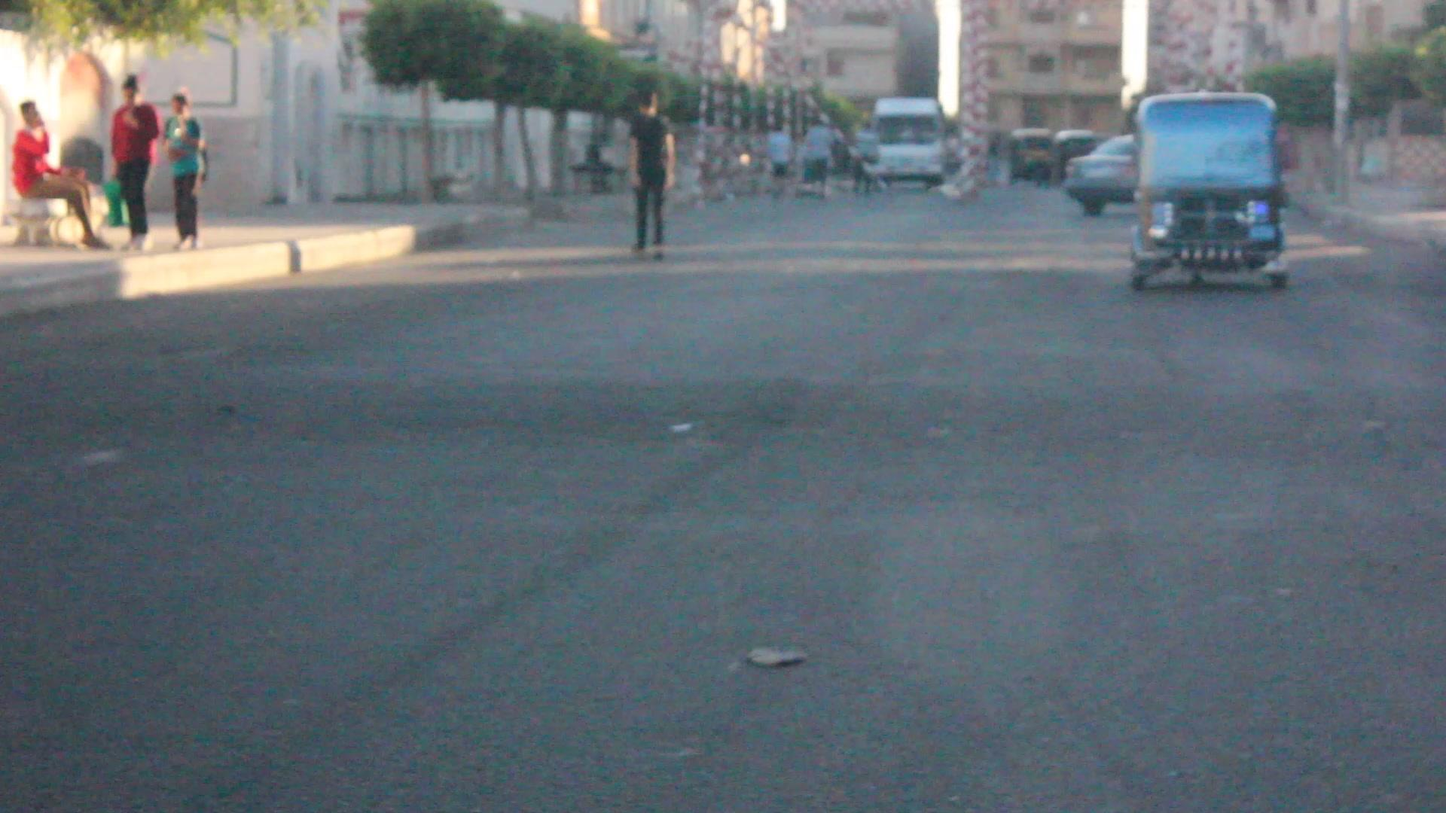Bump: (0, 350, 1446, 474)
